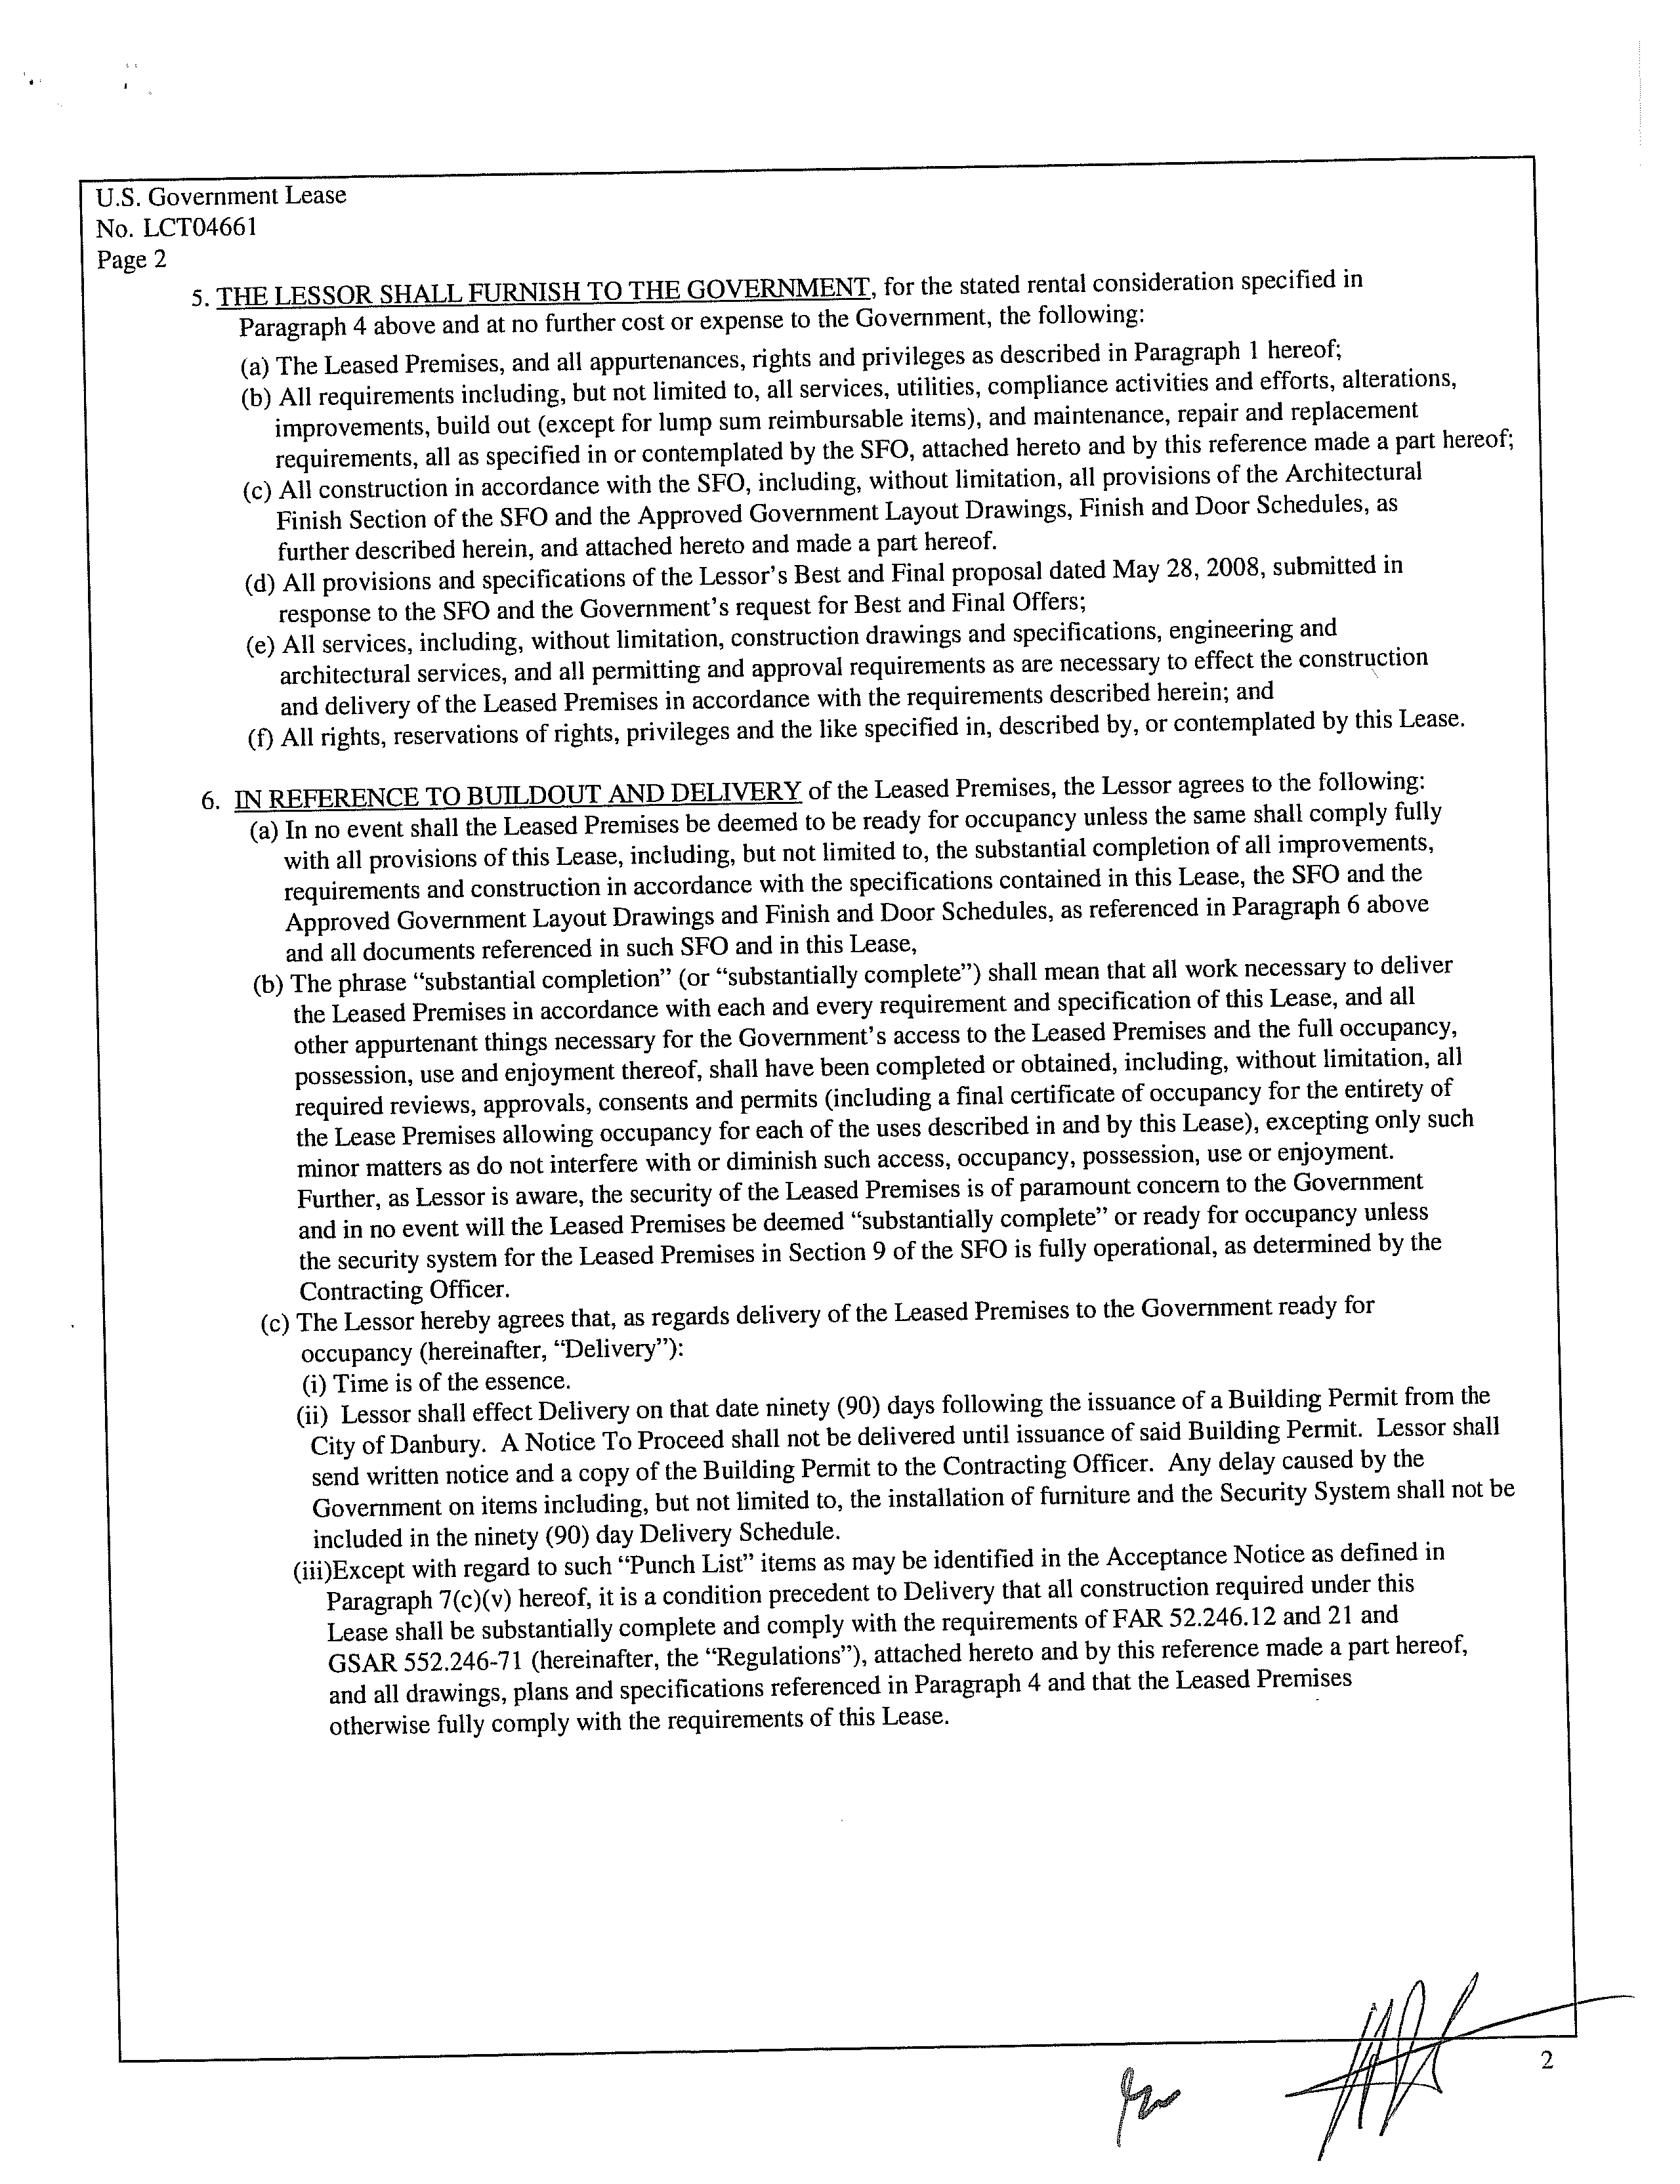handwritten: (1278, 1948, 1673, 2152), (1089, 2053, 1207, 2163)
